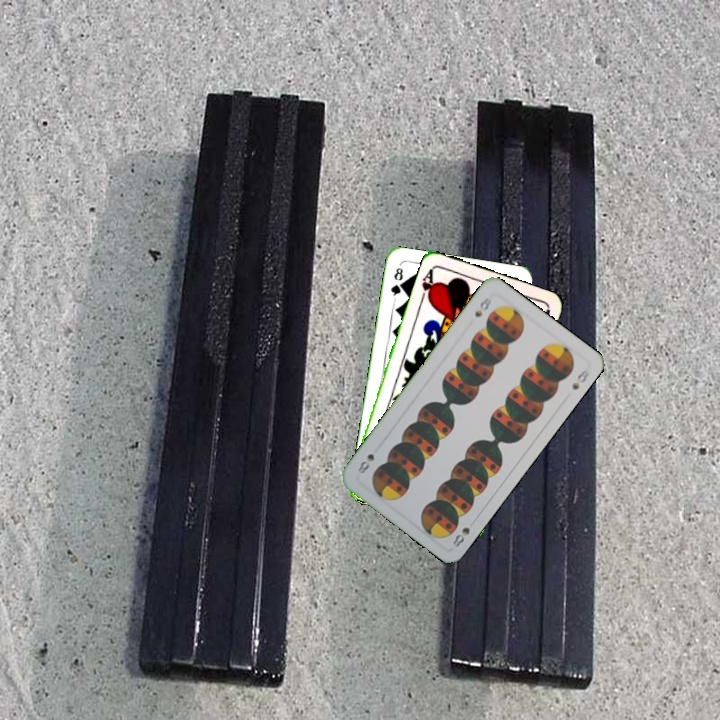G8: (386, 263, 406, 302)
HA: (416, 265, 439, 305)
S8: (449, 515, 479, 550), (470, 293, 494, 320)
